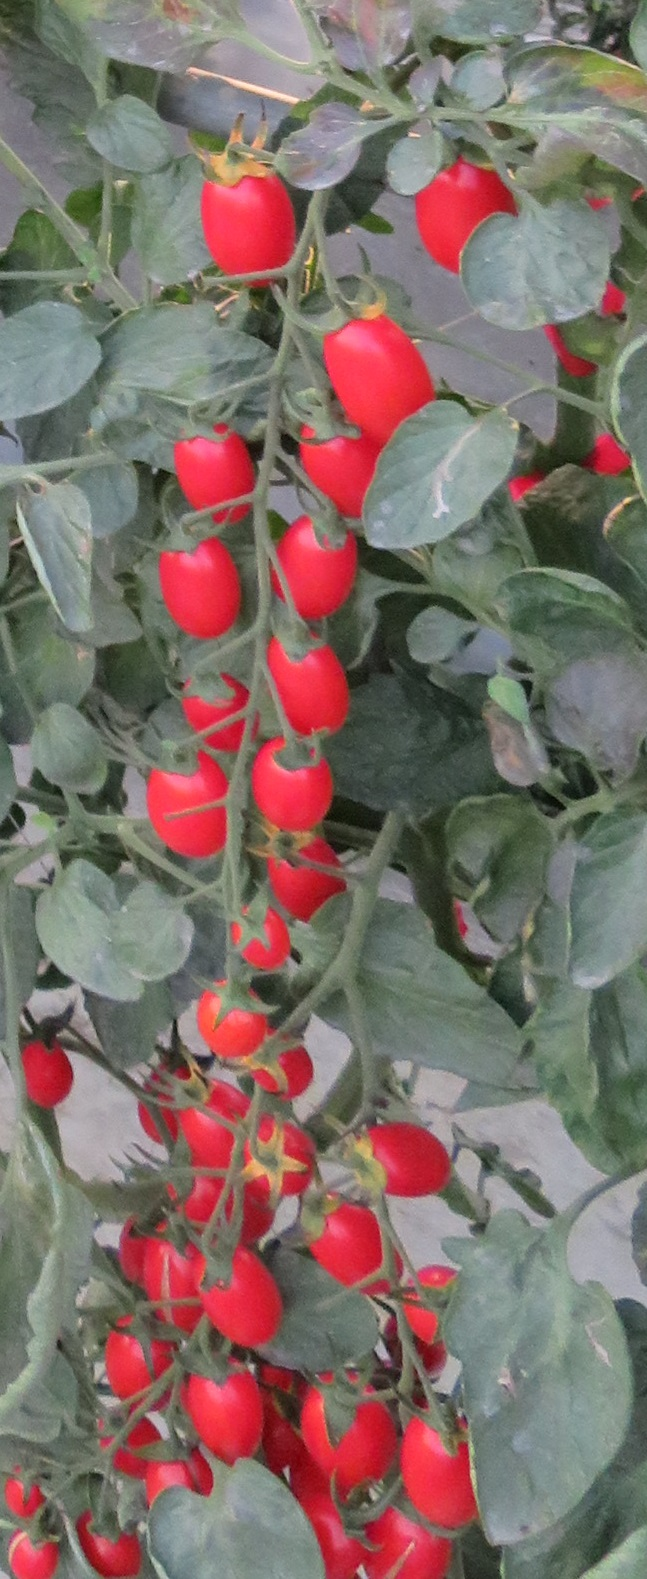red: (320, 312, 438, 439), (412, 153, 520, 281), (197, 168, 302, 294), (296, 1191, 407, 1301), (302, 1373, 397, 1499), (146, 525, 243, 647), (146, 742, 242, 865), (173, 1073, 268, 1188), (196, 1239, 291, 1348), (179, 1352, 269, 1466), (292, 416, 392, 517), (397, 1398, 476, 1522), (261, 629, 360, 727), (343, 1122, 458, 1204), (274, 509, 364, 614), (168, 414, 253, 524), (145, 1219, 218, 1334), (102, 1312, 178, 1419), (141, 1217, 212, 1332), (245, 737, 335, 827), (264, 832, 351, 924), (287, 1481, 373, 1575), (178, 668, 269, 752), (364, 1499, 459, 1579), (192, 975, 269, 1057), (141, 1435, 215, 1517), (243, 1027, 317, 1098), (15, 1034, 81, 1114), (233, 901, 292, 965), (73, 1516, 135, 1571), (7, 1529, 63, 1579)
